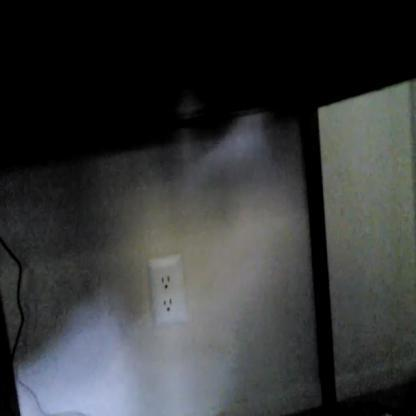OUTLET: (158, 270, 175, 292)
